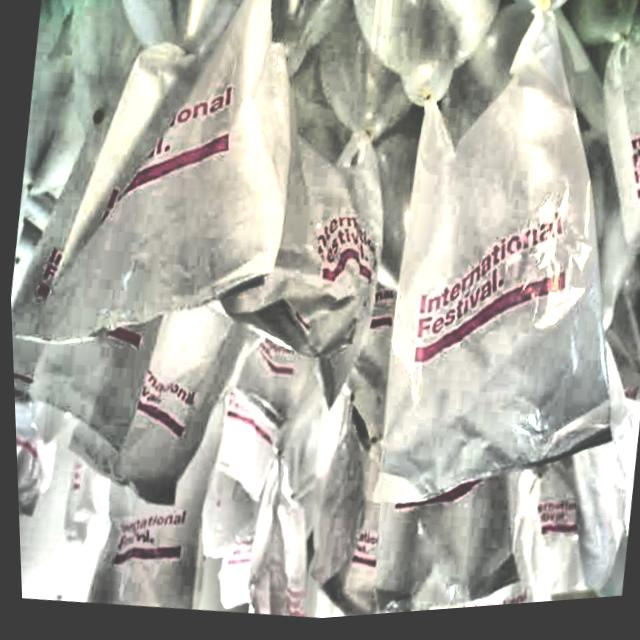Plastic: (337, 0, 640, 547), (38, 0, 313, 347), (63, 387, 226, 616)
